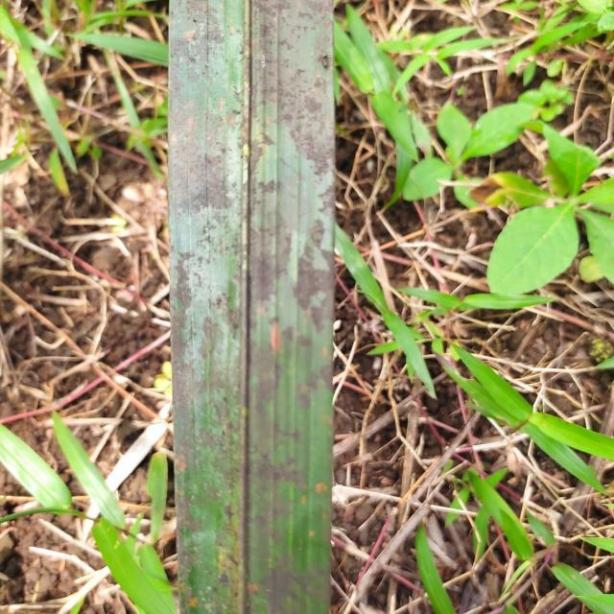Kalium: (171, 0, 339, 614)
